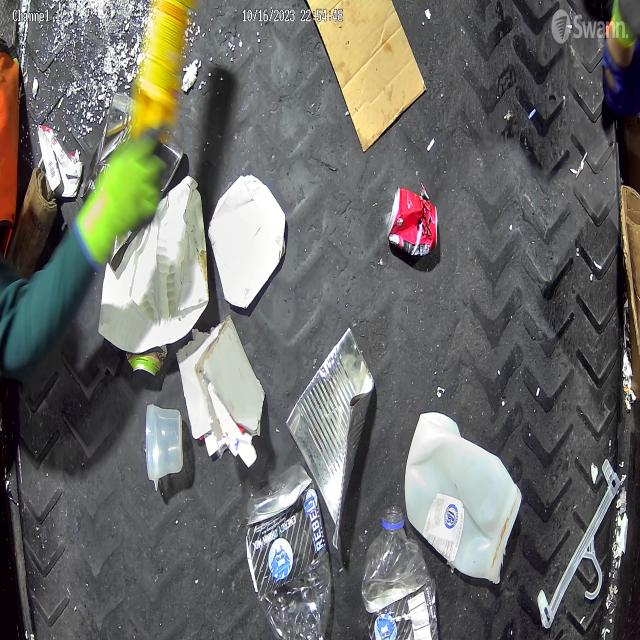can: (387, 185, 438, 256), (128, 345, 164, 375)
milk_jug: (404, 412, 522, 585)
plastic_bottle: (246, 462, 332, 640), (362, 506, 438, 640)
